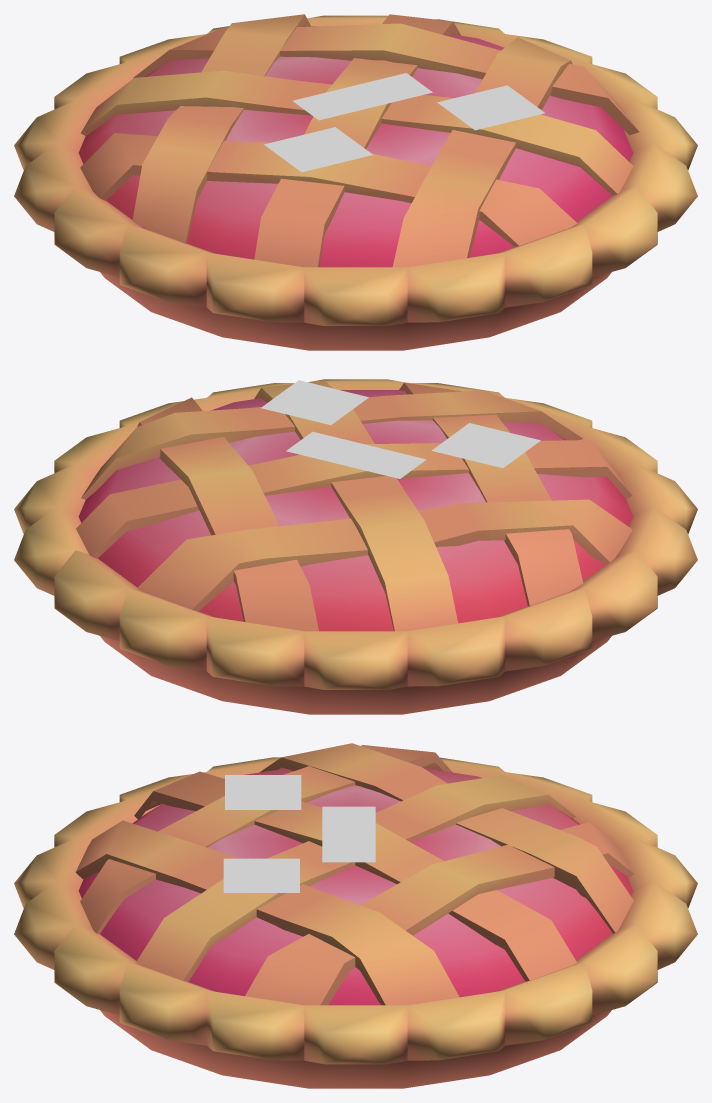
File: pie_cherry_smile.fbx
The picture shows the model from 3 angles, top to bottom: view 1: azimuth 30°, elevation 25°; view 2: azimuth 150°, elevation 25°; view 3: azimuth 270°, elevation 25°; orthographic projection.
Visible parts, largest first — view 1: pie_cherry_smile; view 2: pie_cherry_smile; view 3: pie_cherry_smile.
Part boxes in pixels (left/top/right/bottom): pie_cherry_smile: left=14, top=14, right=697, bottom=350; pie_cherry_smile: left=14, top=379, right=697, bottom=714; pie_cherry_smile: left=14, top=743, right=697, bottom=1088.
Size of the model in its own units: 157 by 36.34 by 155.
Materials: 2 (1 with a texture image).
